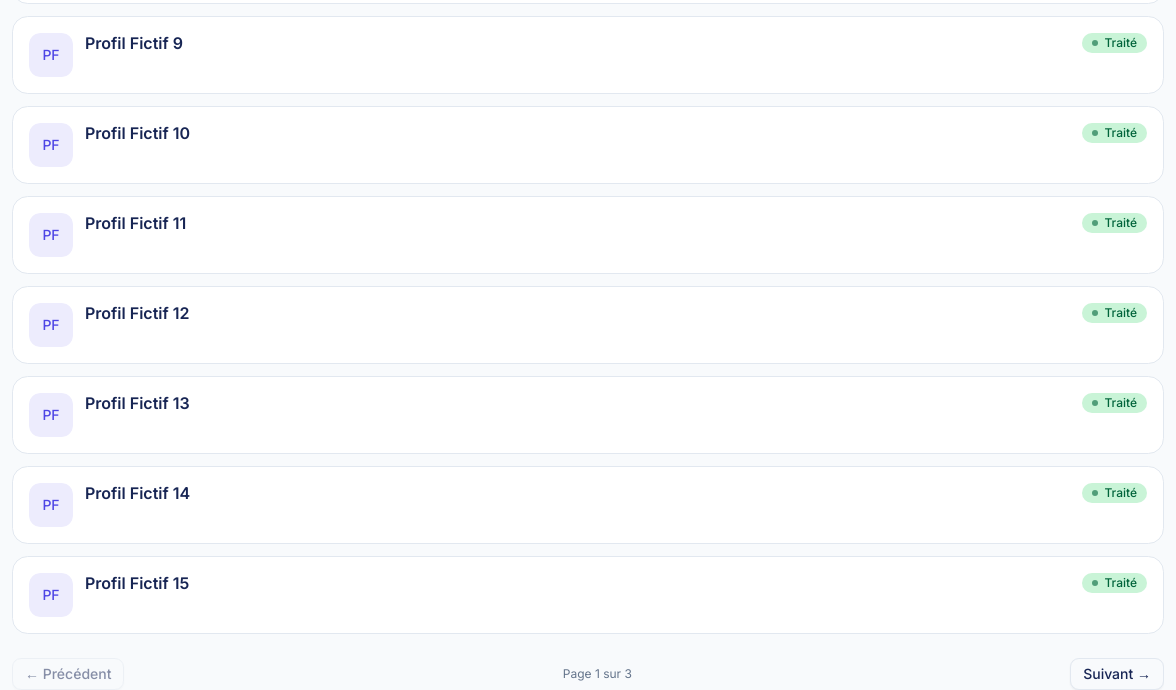
Test: Pagination des candidats › revient à la première page après une recherche et gère les résultats vides
(page scrolled)
Expected: the text "Page 1 sur 3" is shown, [563, 666, 632, 682]
Click the button "Suivant →": (1117, 674) [1070, 658, 1164, 689]
(page scrolled)
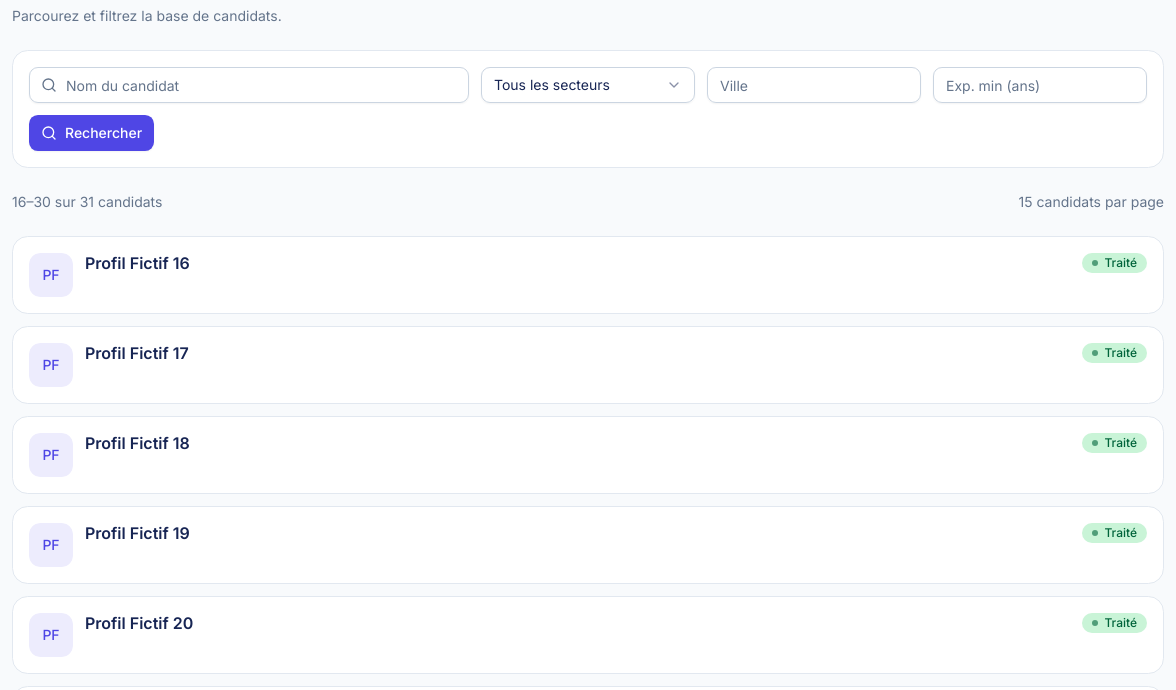
In the field labelled "Nom du candidat": (249, 85) [29, 67, 469, 103], type "Fictif 31"
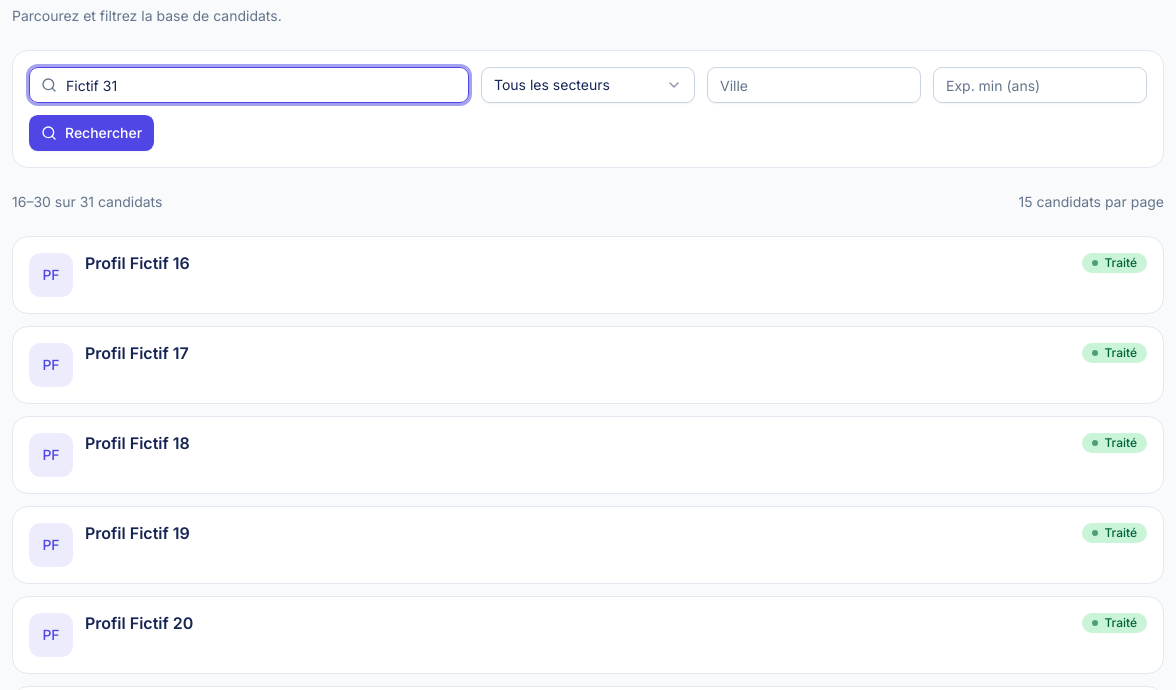
Click the button "Rechercher": (92, 133) [29, 115, 154, 151]
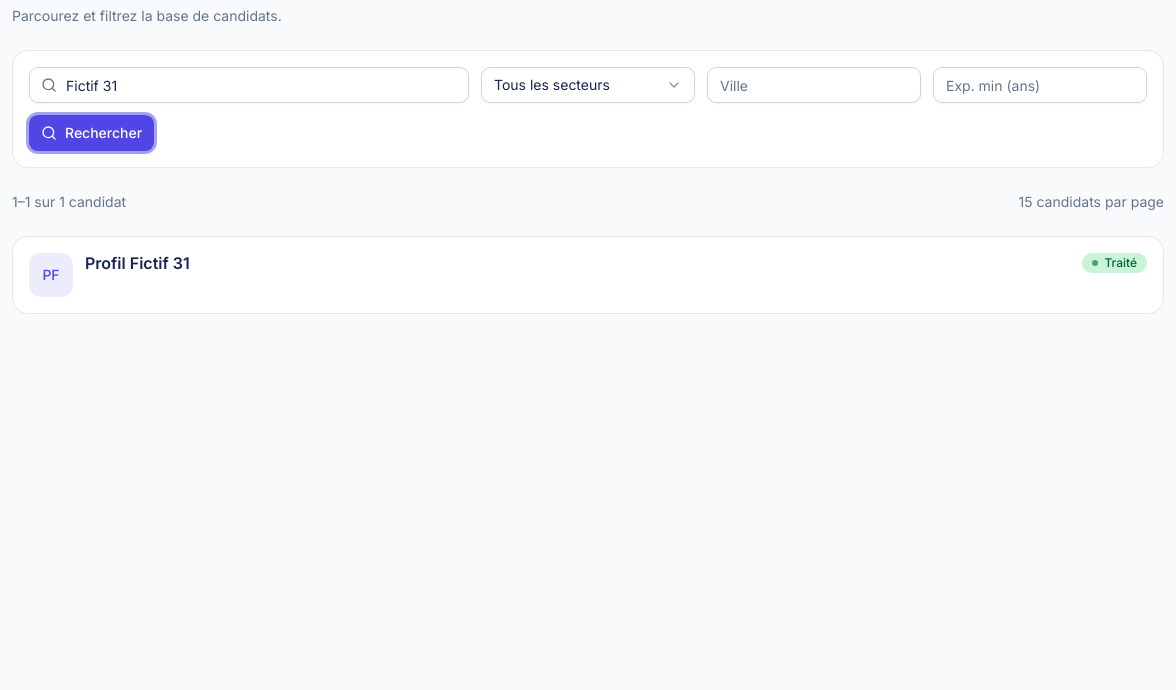
Now the text "1–1 sur 1 candidat" is shown, box [12, 192, 126, 212]
In the field named "Nom du candidat": (249, 85) [29, 67, 469, 103], type " absent"
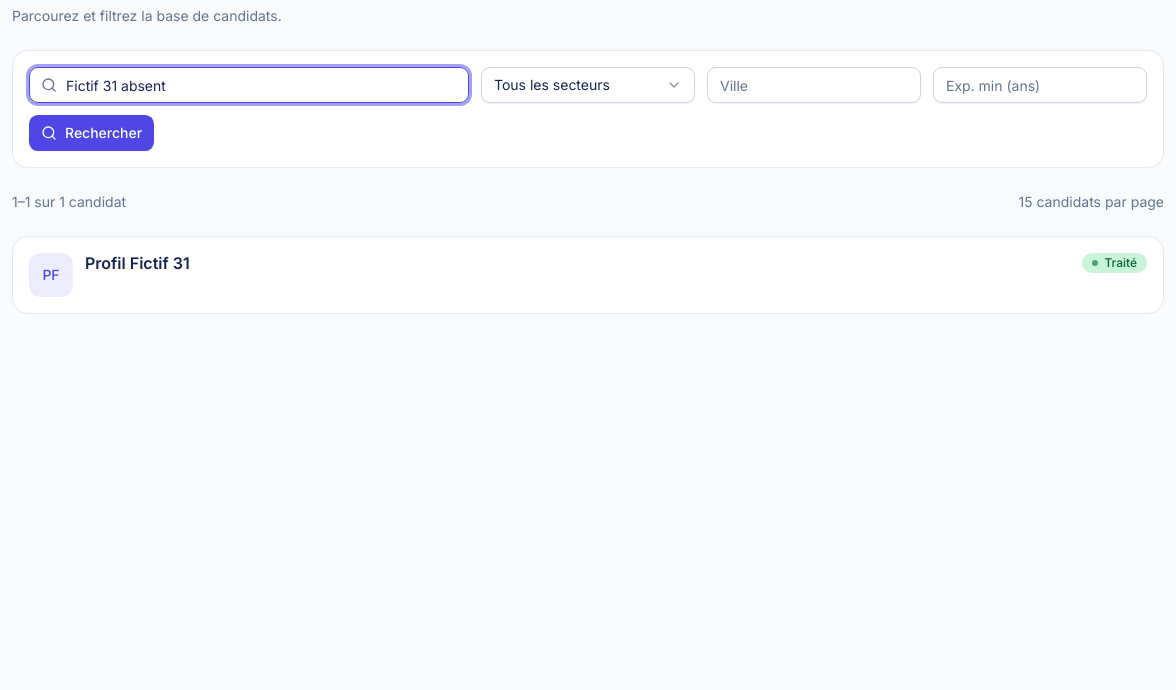
Click the button "Rechercher": (92, 133) [29, 115, 154, 151]
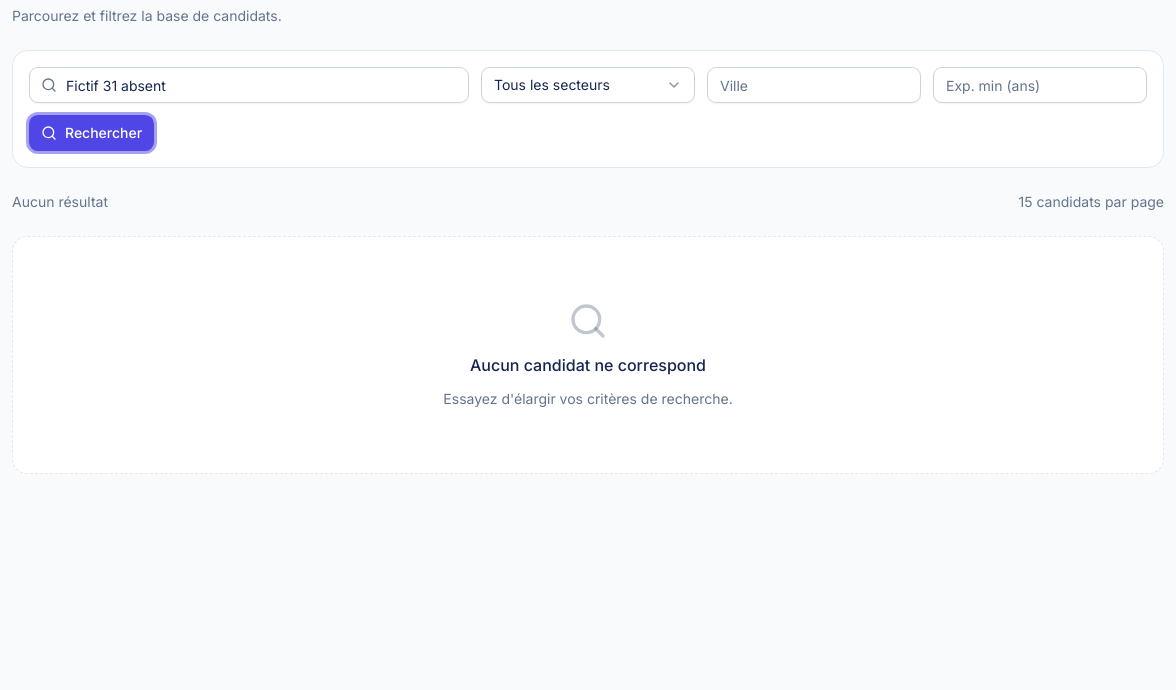
Now the text "Aucun résultat" is shown, box [12, 192, 108, 212]
Now the list item "PF Profil Fictif 31 Traité" is gone
